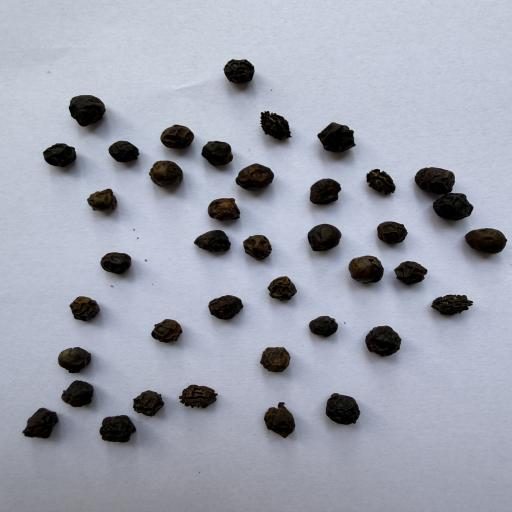Black_pepper: (461, 225, 508, 257), (314, 122, 360, 153), (324, 391, 361, 427), (350, 254, 388, 288), (415, 165, 461, 193), (260, 404, 297, 438), (305, 221, 345, 252), (19, 408, 60, 438), (96, 412, 134, 444), (205, 294, 247, 321), (68, 95, 105, 125), (434, 192, 475, 219), (56, 346, 93, 374), (265, 272, 298, 303), (192, 229, 232, 254), (308, 178, 341, 208), (99, 251, 137, 277), (205, 198, 246, 222), (61, 379, 96, 407), (392, 260, 429, 286), (366, 325, 400, 353), (148, 161, 184, 187), (375, 220, 409, 247), (158, 124, 196, 147), (242, 234, 272, 263), (236, 164, 272, 188), (70, 296, 102, 323), (84, 186, 117, 212), (260, 346, 290, 374), (152, 317, 184, 343), (225, 57, 255, 84), (132, 391, 162, 418), (201, 140, 233, 165), (43, 142, 76, 166), (306, 315, 338, 339), (106, 140, 140, 162)
papaya_seed: (428, 293, 486, 328), (246, 112, 300, 146), (174, 381, 220, 415), (362, 165, 404, 201)
